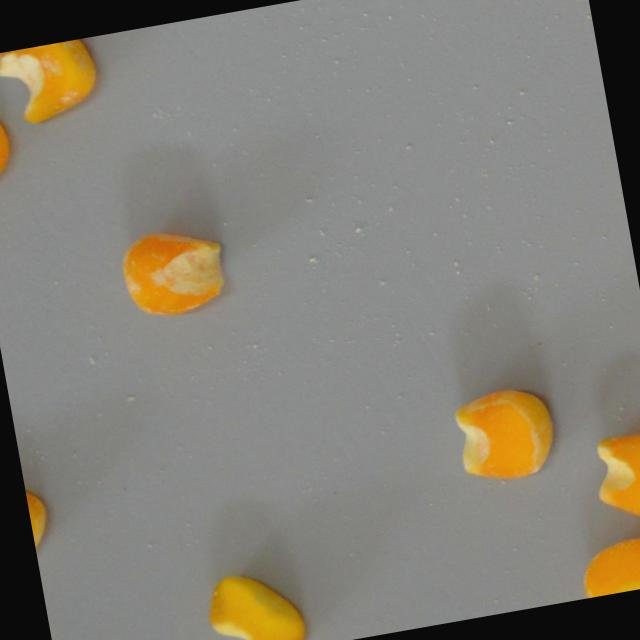no_canjicado: (201, 561, 307, 640), (588, 430, 640, 523)
pelicula: (117, 220, 232, 320), (450, 380, 559, 484), (0, 36, 102, 129), (576, 534, 640, 598)
